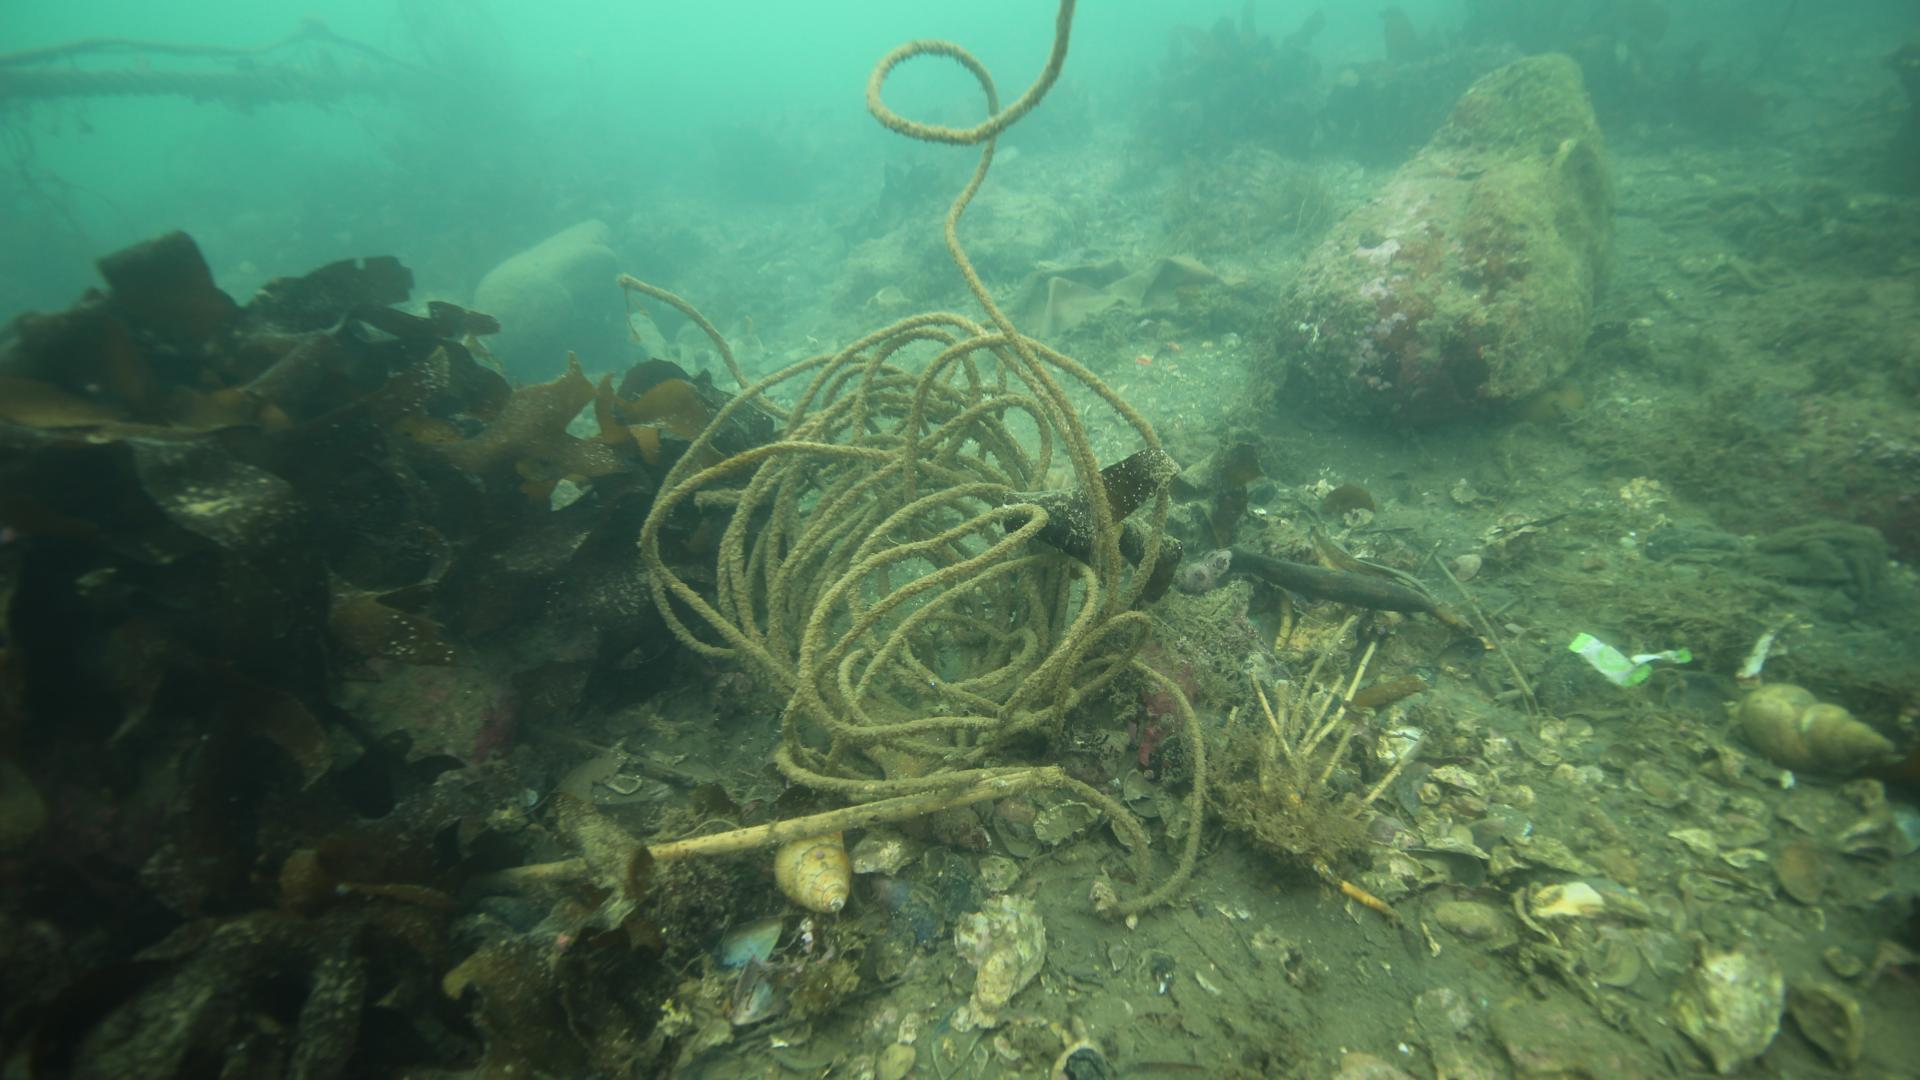bundle of ropes: (615, 0, 1211, 920)
